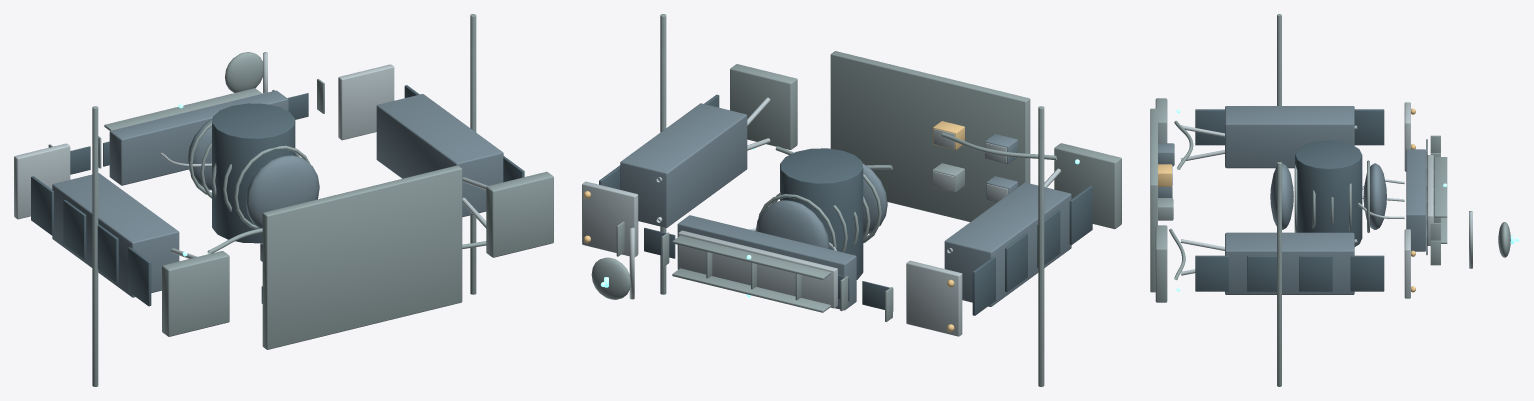
Rendered from orbital.glb.
The picture shows the model from 3 angles, left to right: view 1: azimuth 30°, elevation 25°; view 2: azimuth 150°, elevation 25°; view 3: azimuth 270°, elevation 25°; orthographic projection. The views are drawn at different scales.
Visible parts, largest first — view 1: base_plate, pylon_R, cargo_pod, pylon_L, bridge_main, pylon_base, pylon_base.001, pod_dome, pylon_cap.001, pylon_cap, pipe, antenna_dish (+12 smaller); view 2: base_plate, pylon_R, pylon_L, cargo_pod, bridge_top, pylon_base.001, pylon_base, pylon_cap, bridge_main, pylon_cap.001, pod_dome.001, bridge_rail.001 (+17 smaller); view 3: pylon_L, cargo_pod, pylon_R, bridge_main, base_plate, panel_line.007, panel_line.004, panel_line.006, panel_line.003, panel_line.005, pod_dome.001, panel_line (+14 smaller).
Boxes of the visible parts, bbox=[...] form: base_plate: bbox=[262, 165, 462, 349]; pylon_R: bbox=[376, 94, 503, 217]; cargo_pod: bbox=[212, 103, 295, 243]; pylon_L: bbox=[52, 173, 179, 297]; bridge_main: bbox=[109, 90, 288, 185]; pylon_base: bbox=[162, 251, 229, 336]; pylon_base.001: bbox=[486, 171, 553, 257]; pod_dome: bbox=[245, 155, 319, 228]; pylon_cap.001: bbox=[338, 64, 394, 140]; pylon_cap: bbox=[14, 143, 70, 219]; pipe: bbox=[92, 141, 98, 386]; antenna_dish: bbox=[225, 52, 262, 92]; base_plate: bbox=[830, 51, 1030, 221]; pylon_R: bbox=[620, 103, 747, 227]; pylon_L: bbox=[944, 182, 1071, 306]; cargo_pod: bbox=[780, 148, 863, 279]; bridge_top: bbox=[678, 230, 837, 308]; pylon_base.001: bbox=[730, 64, 797, 149]; pylon_base: bbox=[1054, 143, 1121, 229]; pylon_cap: bbox=[906, 260, 962, 336]; bridge_main: bbox=[677, 215, 856, 310]; pylon_cap.001: bbox=[582, 181, 638, 256]; pod_dome.001: bbox=[755, 200, 829, 248]; bridge_rail.001: bbox=[672, 235, 830, 279]; pylon_L: bbox=[1225, 106, 1354, 168]; cargo_pod: bbox=[1295, 140, 1362, 246]; pylon_R: bbox=[1225, 232, 1354, 294]; bridge_main: bbox=[1406, 149, 1425, 251]; base_plate: bbox=[1150, 108, 1157, 292]; panel_line.007: bbox=[1350, 255, 1384, 291]; panel_line.004: bbox=[1195, 255, 1228, 291]; panel_line.006: bbox=[1299, 255, 1332, 291]; panel_line.003: bbox=[1354, 109, 1384, 145]; panel_line.005: bbox=[1247, 255, 1276, 291]; pod_dome.001: bbox=[1363, 163, 1386, 229]; panel_line: bbox=[1195, 109, 1224, 145].
Size of the model in its own units: 6.9 by 4.76 by 7.13.
